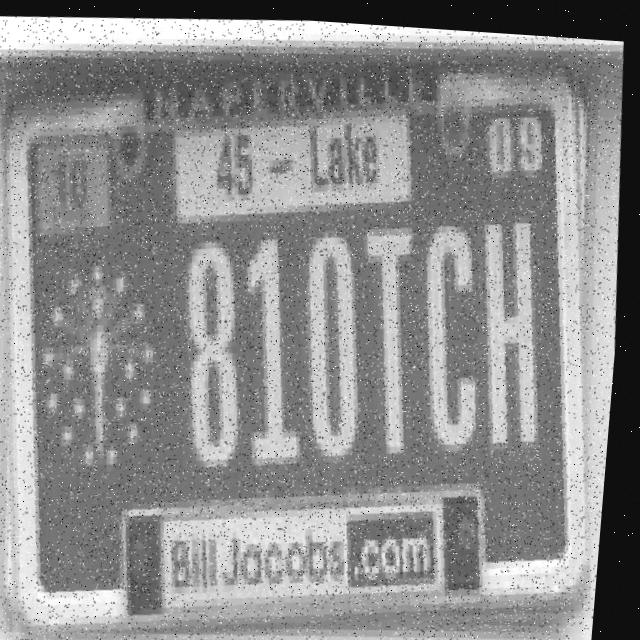LicensePlate: (0, 27, 630, 640)
